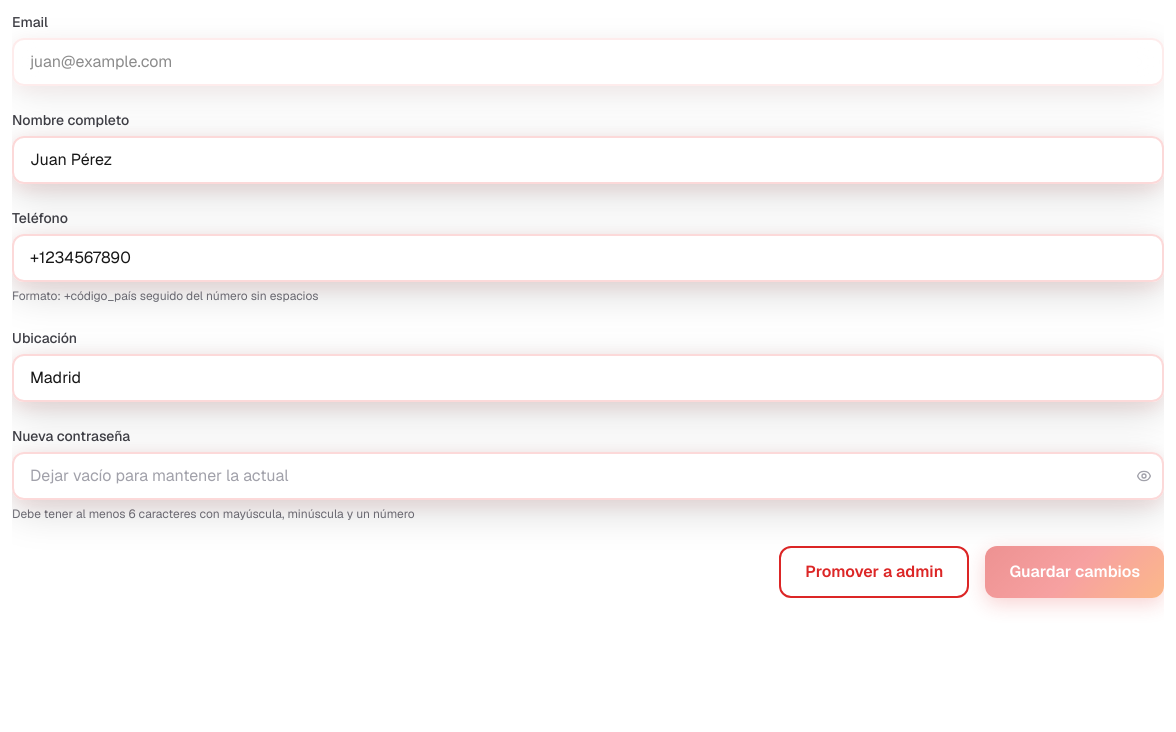
UserForm › promueve al usuario a admin correctamente
Step 1. Click the button "Promover a admin" → (874, 572), box [779,546,969,598]
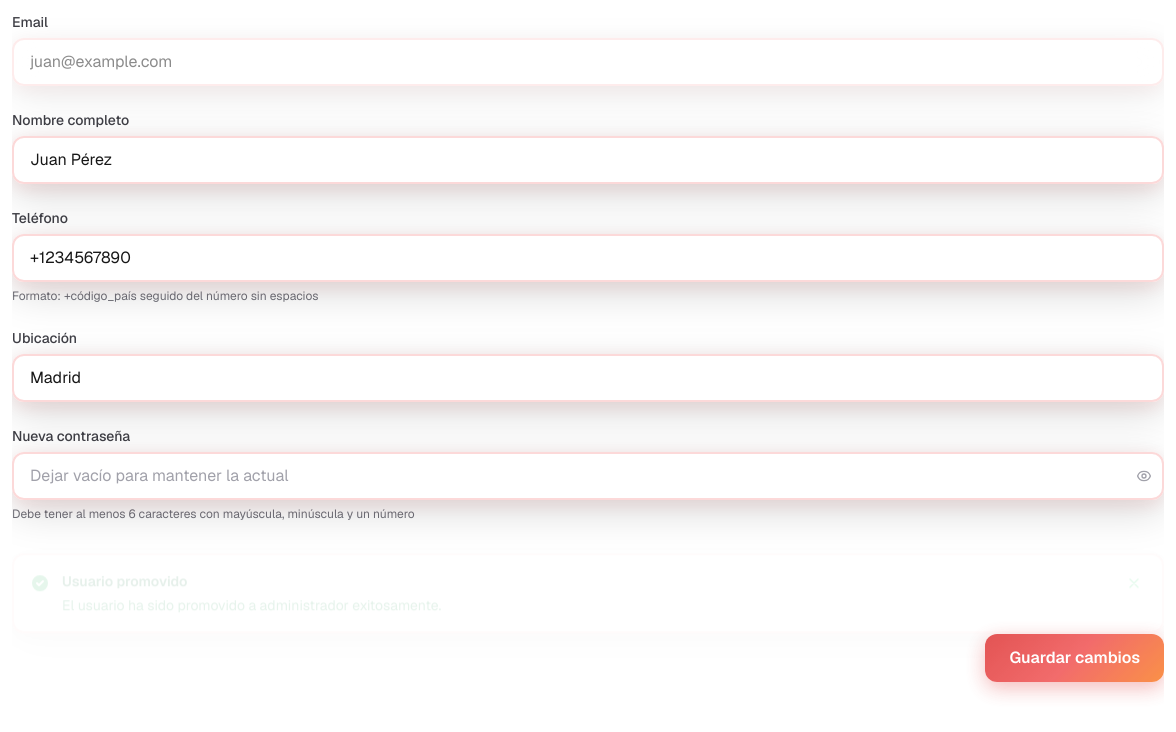
Expected: the text "El usuario ha sido promovido a administrador exitosamente." is shown, [62,596,441,614]
